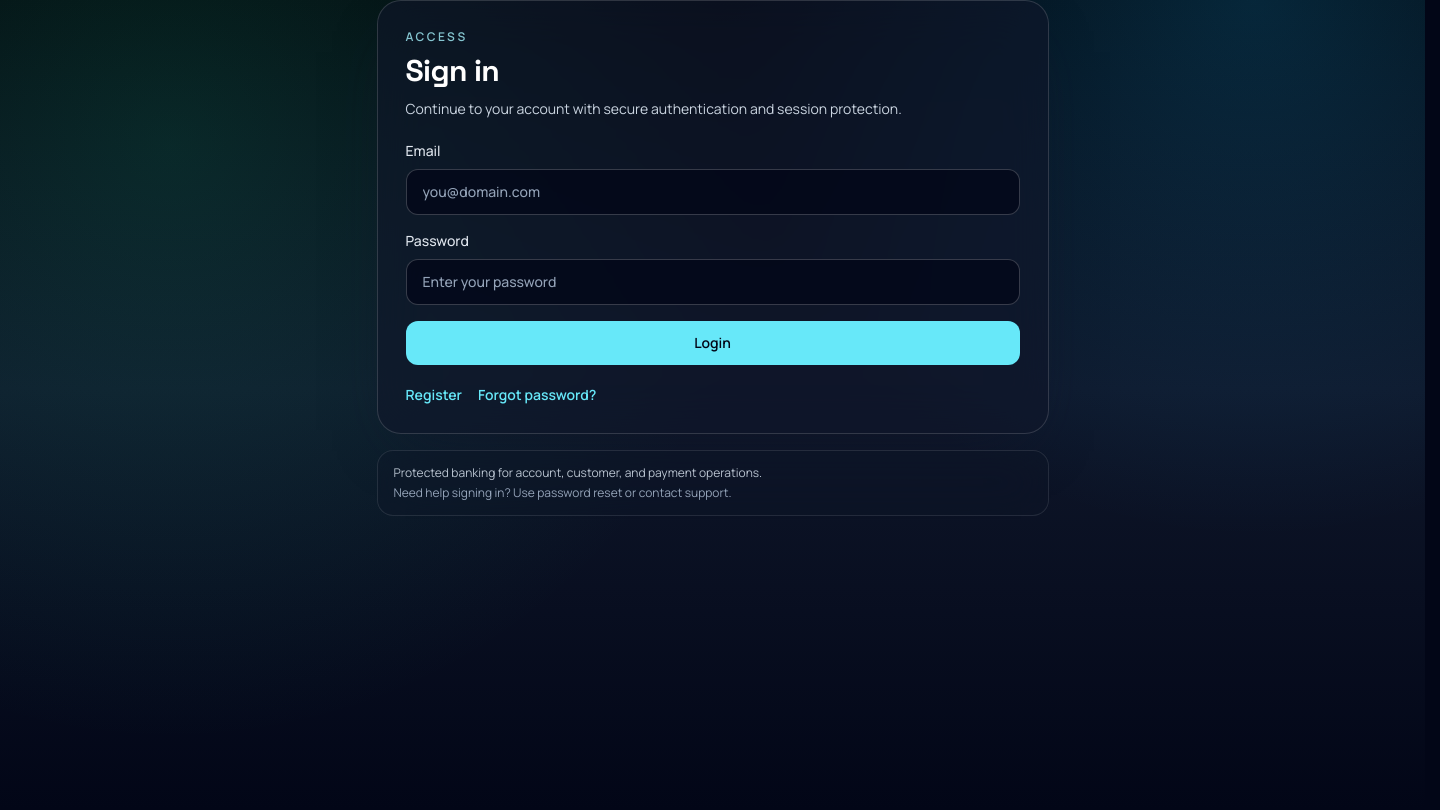
Test case: login lockout › renders lockout message
Type "alice@example.com" into the field named "Login email" at (712, 192), box [406,169,1020,215]
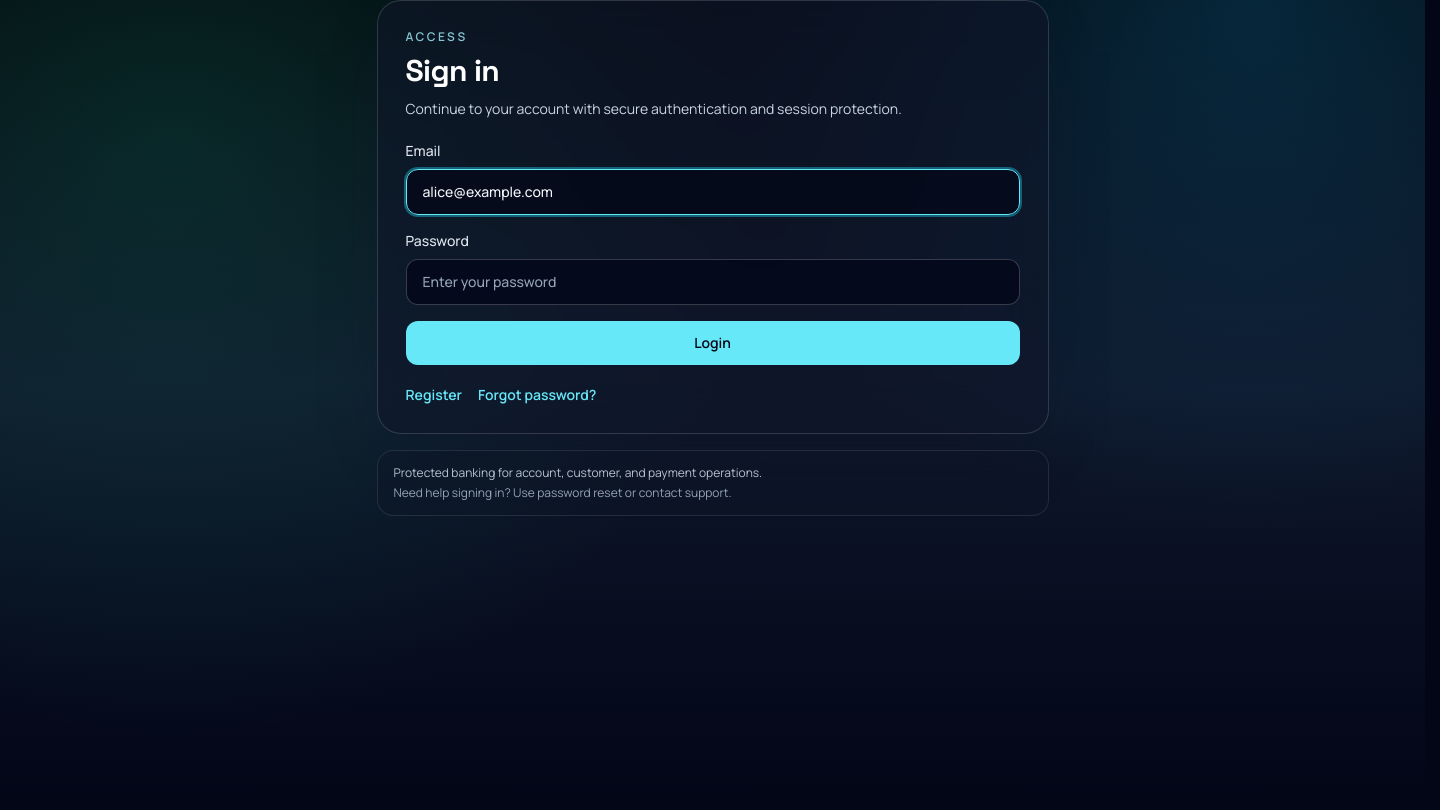
Type "badpass" into the password field named "Login password" at (712, 282), box [406,259,1020,305]
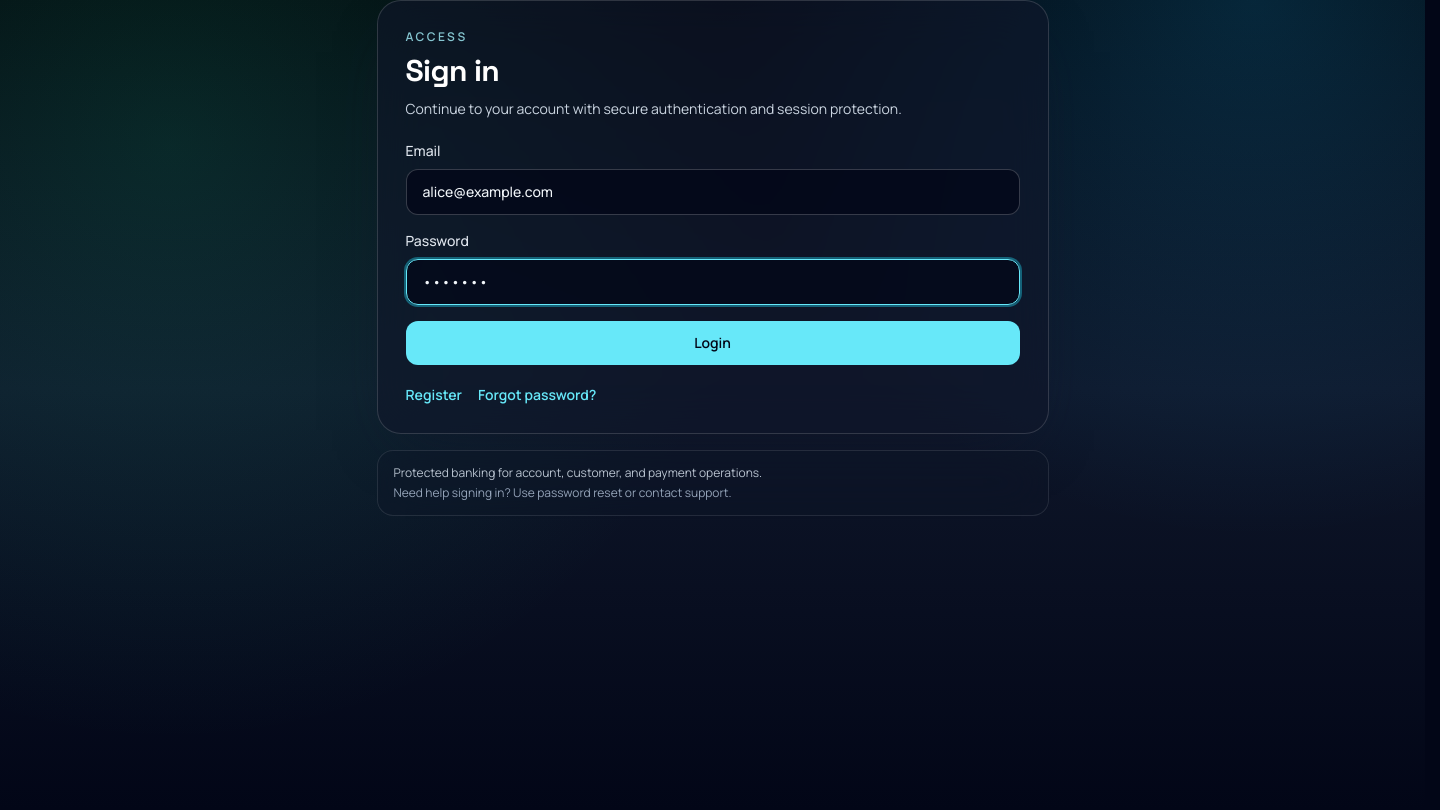
Click the button "Login" at (712, 343), box [406,321,1020,365]
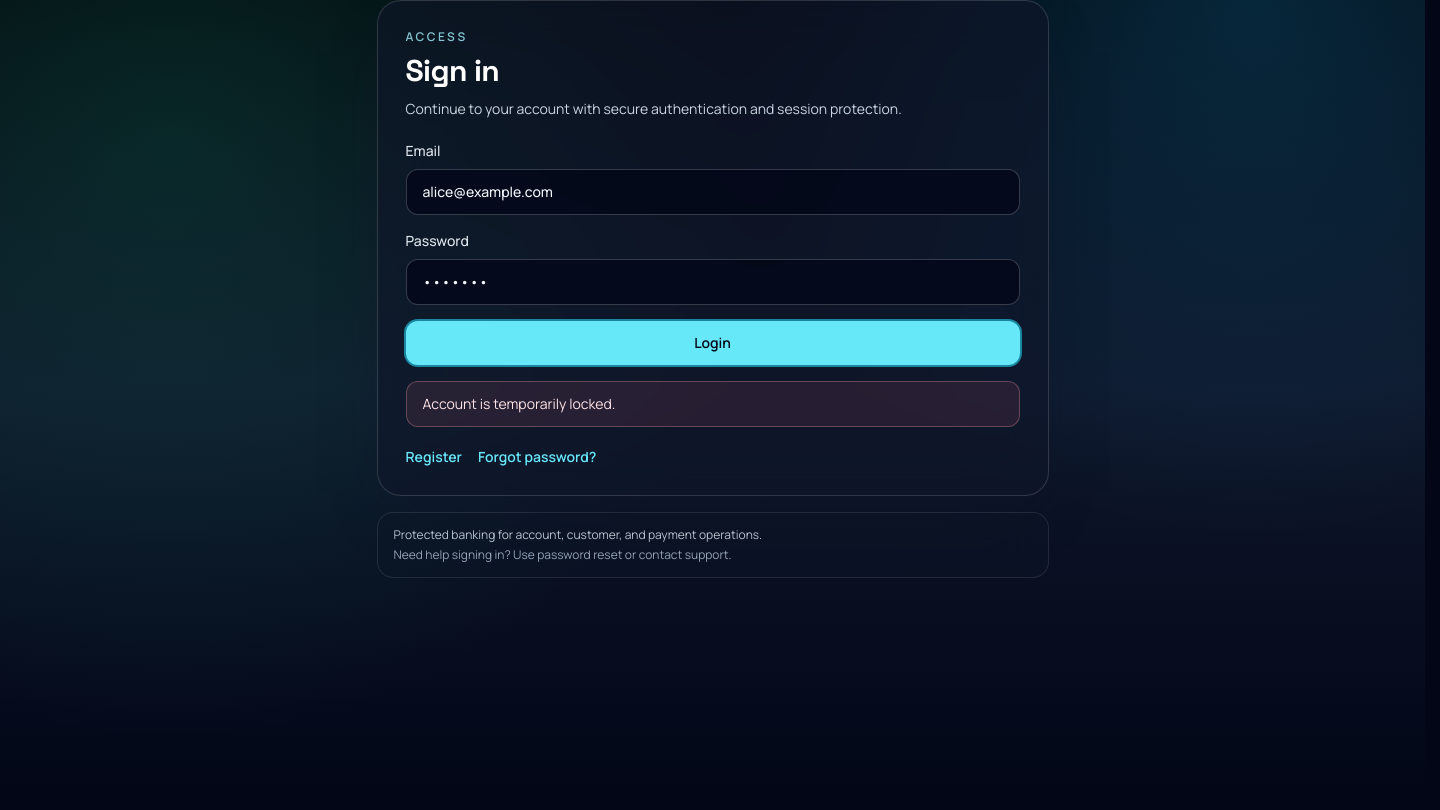
Expected: the message reads "Account is temporarily locked.", [422,394,615,413]
